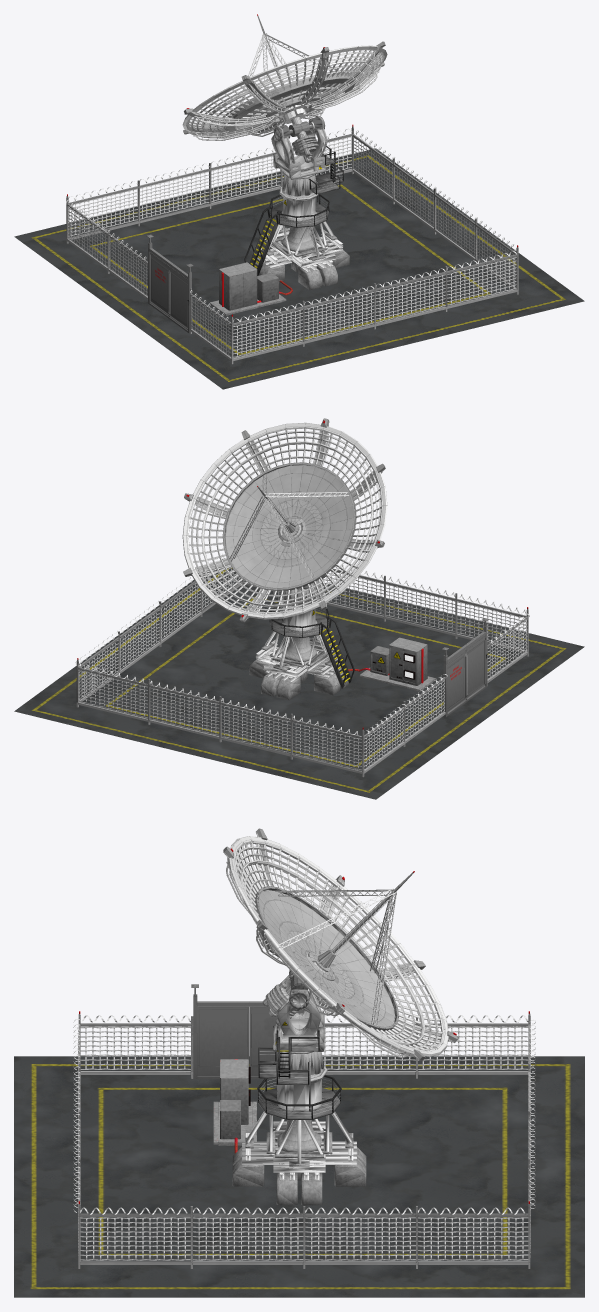
Rendered from radiotelescopio.obj.
The picture shows the model from 3 angles, top to bottom: view 1: azimuth 30°, elevation 25°; view 2: azimuth 150°, elevation 25°; view 3: azimuth 270°, elevation 25°; orthographic projection. The views are drawn at different scales.
Visible parts, largest first — view 1: export__1_road, export_door_2_.001, export_Cylinder.022, export_Cube.058, export_Cube.030, export_Cube.038, export_door_1_.001, export__2.0_; view 2: export__1_road, export_Cylinder.022, export_door_2_.001, export_Cube.058, export_Cube.038, export__2.0_, export_door_1_.001; view 3: export__1_road, export_door_2_.001, export_Cylinder.022, export_Cube.058, export_Cube.030, export_door_1_.001, export_Cube.038, export__2.0_.
Part boxes in pixels (bbox=[...]): export__1_road: bbox=[14, 148, 584, 389]; export_door_2_.001: bbox=[66, 124, 518, 364]; export_Cylinder.022: bbox=[182, 14, 387, 162]; export_Cube.058: bbox=[244, 186, 349, 289]; export_Cube.030: bbox=[271, 115, 343, 202]; export_Cube.038: bbox=[210, 262, 292, 315]; export_door_1_.001: bbox=[168, 266, 187, 330]; export__2.0_: bbox=[150, 252, 169, 316]; export__1_road: bbox=[14, 559, 584, 799]; export_Cylinder.022: bbox=[182, 418, 387, 622]; export_door_2_.001: bbox=[75, 552, 529, 777]; export_Cube.058: bbox=[249, 598, 354, 700]; export_Cube.038: bbox=[348, 637, 436, 691]; export__2.0_: bbox=[447, 649, 466, 713]; export_door_1_.001: bbox=[465, 635, 485, 699]; export__1_road: bbox=[14, 1056, 584, 1297]; export_door_2_.001: bbox=[73, 984, 535, 1268]; export_Cylinder.022: bbox=[223, 828, 458, 1060]; export_Cube.058: bbox=[232, 1066, 366, 1205]; export_Cube.030: bbox=[258, 970, 324, 1111]; export_door_1_.001: bbox=[197, 1006, 249, 1076]; export_Cube.038: bbox=[213, 1059, 256, 1153]; export__2.0_: bbox=[249, 1006, 301, 1076].
Size of the model in its own units: 1.57 by 1 by 1.57.
7 materials, 5 textured.
